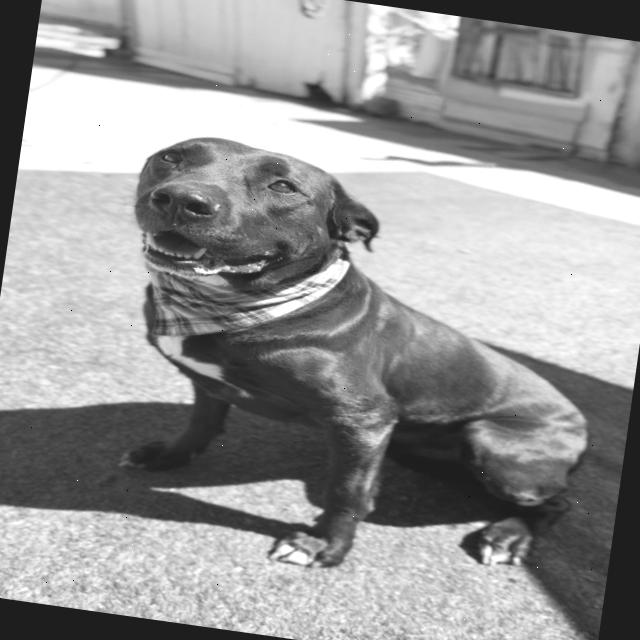labrador_retriever_dog: (96, 115, 408, 335)
